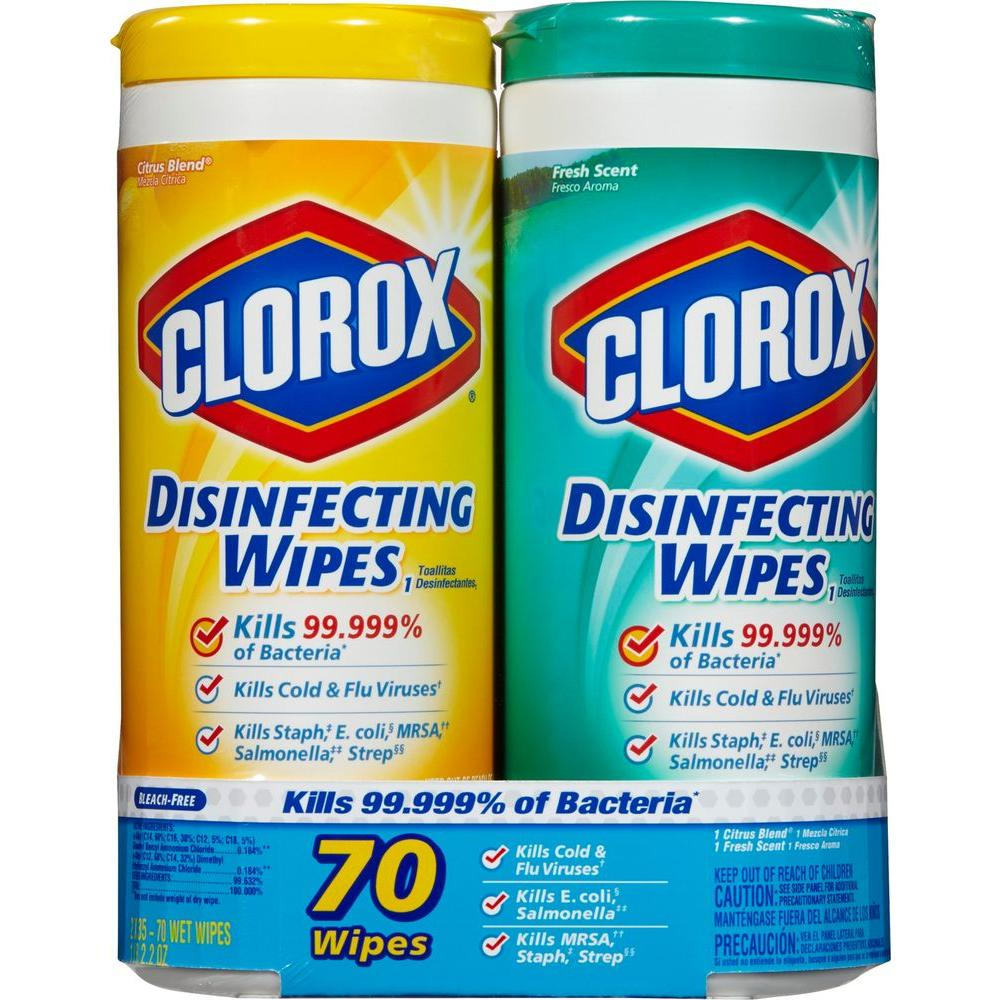Wipes: (104, 4, 506, 999), (494, 3, 896, 998)
